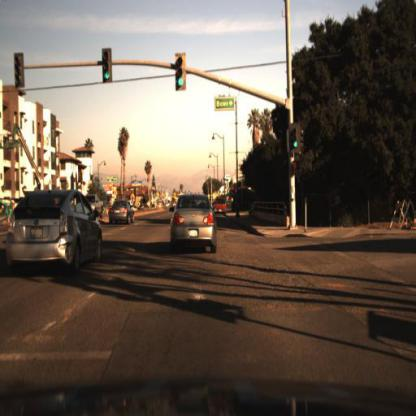car: (10, 186, 104, 289), (165, 187, 221, 271), (101, 197, 137, 233), (106, 198, 136, 230)
trafficLight: (100, 43, 114, 87), (175, 57, 187, 97)
trafficLight-Green: (287, 125, 305, 165), (103, 49, 115, 83), (291, 120, 301, 156)
